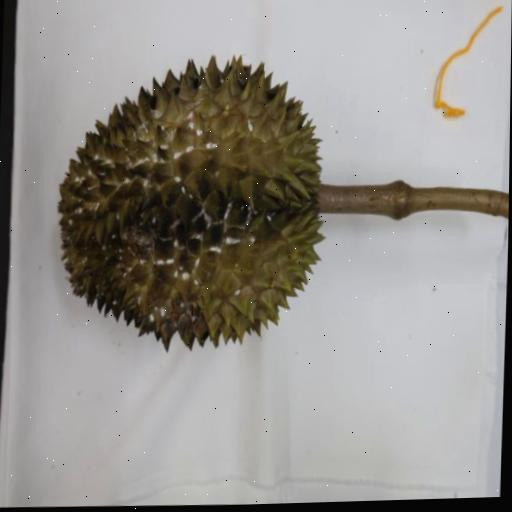mold: (38, 0, 512, 472)
